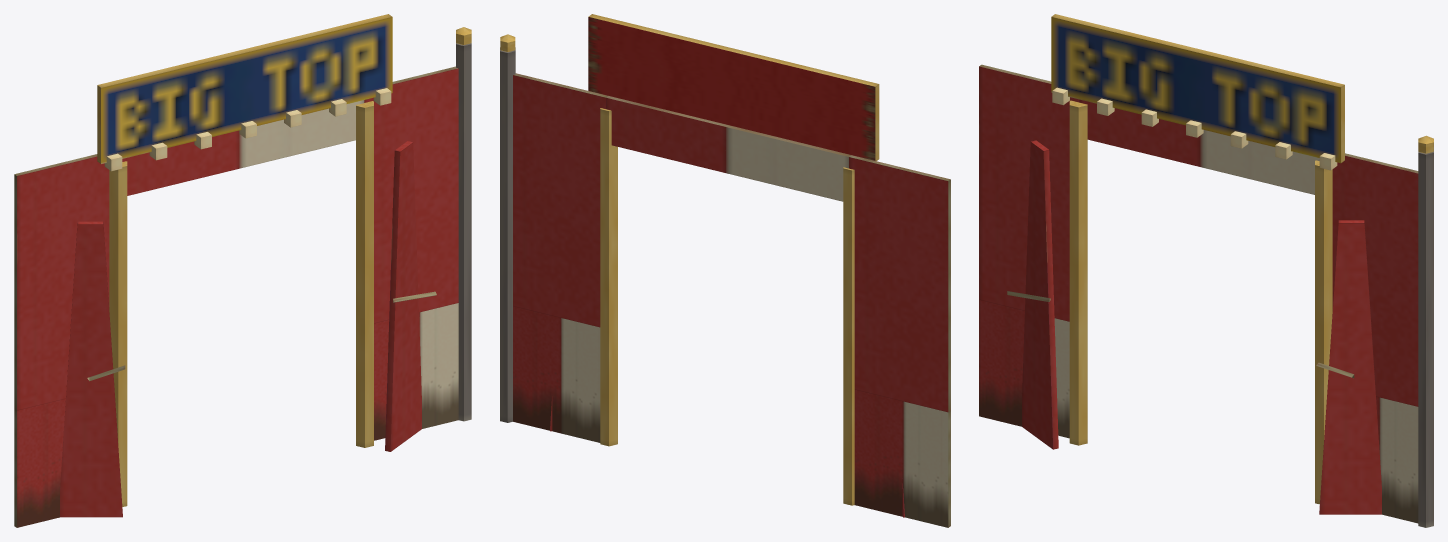
Rendered from big_top_entrance.obj.
3 views of the same model, side by side, from view 1: azimuth 30°, elevation 25°; view 2: azimuth 150°, elevation 25°; view 3: azimuth 330°, elevation 25° (orthographic).
Visible parts, largest first — view 1: big_top_entrance_right, big_top_entrance, big_top_entrance_header; view 2: big_top_entrance_right, big_top_entrance, big_top_entrance_header; view 3: big_top_entrance_right, big_top_entrance, big_top_entrance_header.
Part boxes in pixels (x1,y1,x2,y2): big_top_entrance_right: (356, 27, 471, 451); big_top_entrance: (14, 154, 127, 527); big_top_entrance_header: (97, 14, 392, 195); big_top_entrance_right: (500, 34, 617, 446); big_top_entrance: (843, 155, 950, 527); big_top_entrance_header: (588, 14, 879, 201); big_top_entrance_right: (1315, 135, 1433, 527); big_top_entrance: (979, 64, 1087, 449); big_top_entrance_header: (1051, 14, 1344, 194).
Size of the model in its own units: 4.07 by 3.62 by 0.4304.
Materials: 1 (1 with a texture image).
